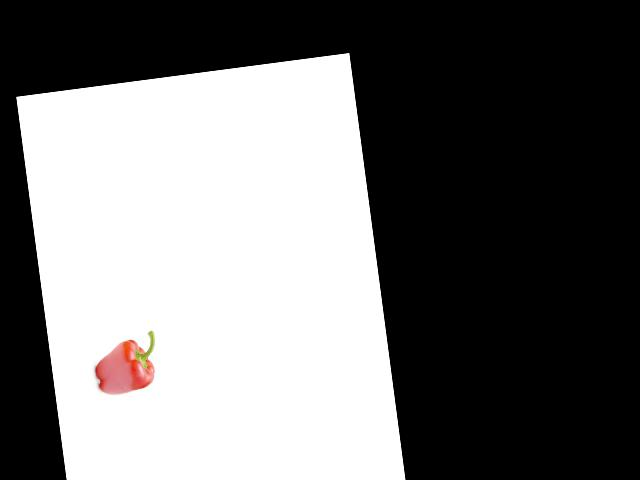bell_pepper: (86, 328, 165, 400)
